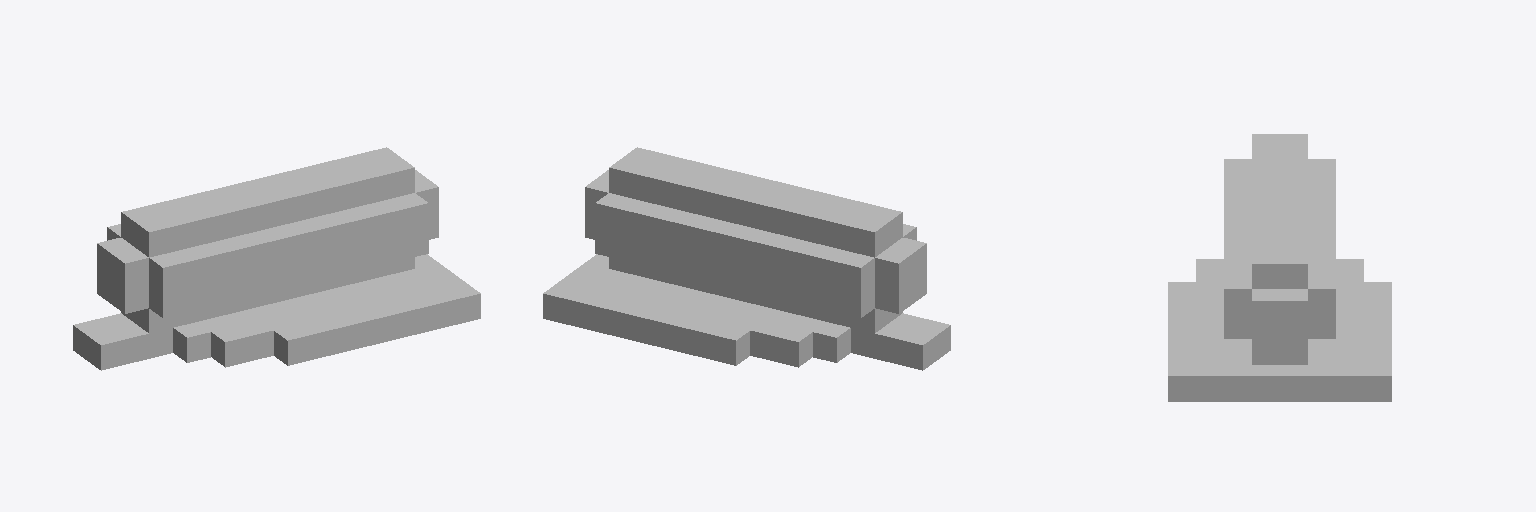
File: hardcook_cutting_board_with_cucumber.obj
3 renders of one model, left to right at view 1: azimuth 30°, elevation 25°; view 2: azimuth 150°, elevation 25°; view 3: azimuth 270°, elevation 25°, orthographic.
Parts seen in each view (by area): view 1: node_0_0_0.001, node_0_0_0; view 2: node_0_0_0.001, node_0_0_0; view 3: node_0_0_0.001, node_0_0_0.
Part boxes in pixels (left/top/right/bottom): node_0_0_0.001: left=97, top=147, right=438, bottom=333; node_0_0_0: left=73, top=254, right=480, bottom=370; node_0_0_0.001: left=585, top=147, right=926, bottom=333; node_0_0_0: left=543, top=254, right=950, bottom=370; node_0_0_0.001: left=1224, top=134, right=1335, bottom=364; node_0_0_0: left=1168, top=259, right=1391, bottom=401.
Bounding box in the file's own units: 0.875 × 0.3125 × 0.5.